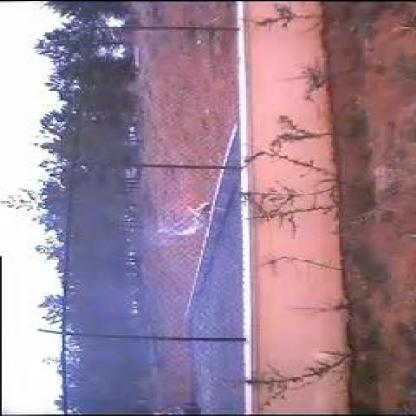-: (68, 212, 236, 331)
